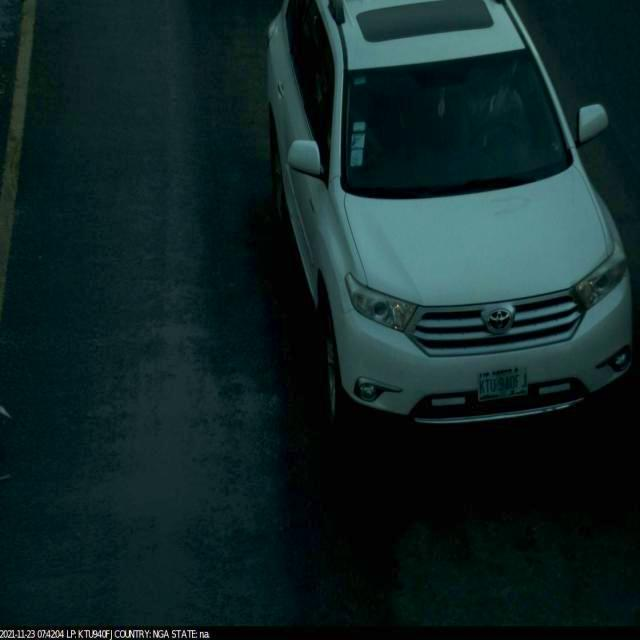person_with_seatbelt: (443, 54, 528, 164)
